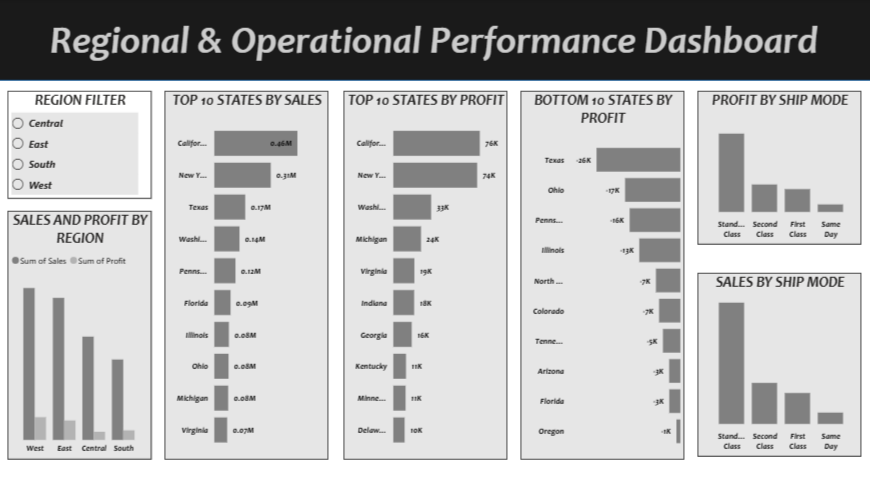

Layout of this report page (visuals, bound fields, positions):
{"tool":"powerbi","page":{"name":"Regional & Operations","canvas":[1280,720],"ordinal":2},"visuals":[{"type":"shape","title":"Business Intelligence Report","box":[0,0,1280.5,120],"z":0},{"type":"listSlicer","title":"REGION FILTER","fields":{"Values":["samplesuperstore.Region"]},"box":[16.1,134.6,210.7,158],"z":1},{"type":"clusteredBarChart","title":"TOP 10 STATES BY SALES","fields":{"Category":["samplesuperstore.State/Province"],"Y":["Sum(samplesuperstore.Sales)"]},"box":[245.9,134.6,240,540],"z":2},{"type":"clusteredBarChart","title":"TOP 10 STATES BY PROFIT","fields":{"Category":["samplesuperstore.State/Province"],"Y":["Sum(samplesuperstore.Profit)"]},"box":[507.8,134.6,240,540],"z":3},{"type":"clusteredColumnChart","title":"SALES BY SHIP MODE","fields":{"Category":["samplesuperstore.Ship Mode"],"Y":["Sum(samplesuperstore.Sales)"]},"box":[1025.9,401,240,269.3],"z":4},{"type":"clusteredColumnChart","title":"PROFIT BY SHIP MODE","fields":{"Category":["samplesuperstore.Ship Mode"],"Y":["Sum(samplesuperstore.Profit)"]},"box":[1025.9,134.6,240,225.4],"z":5},{"type":"clusteredBarChart","title":"BOTTOM 10 STATES BY PROFIT","fields":{"Category":["samplesuperstore.State/Province"],"Y":["Sum(samplesuperstore.Profit)"]},"box":[766.8,134.6,240,540],"z":6},{"type":"clusteredColumnChart","title":"SALES AND PROFIT BY REGION","fields":{"Category":["samplesuperstore.Region"],"Y":["Sum(samplesuperstore.Sales)","Sum(samplesuperstore.Profit)"]},"box":[16.1,310.2,210.7,364.4],"z":7}]}

Visuals, with their boxes in screenshot pixels (x1, y1, x2, y2), scaled from the page's 1280x720 canvas onto the 870x487 screenshot:
"Business Intelligence Report" shape: x1=0 y1=0 x2=869 y2=81
"REGION FILTER" listSlicer: x1=11 y1=91 x2=154 y2=198
"TOP 10 STATES BY SALES" clusteredBarChart: x1=167 y1=91 x2=330 y2=456
"TOP 10 STATES BY PROFIT" clusteredBarChart: x1=345 y1=91 x2=508 y2=456
"SALES BY SHIP MODE" clusteredColumnChart: x1=697 y1=271 x2=860 y2=453
"PROFIT BY SHIP MODE" clusteredColumnChart: x1=697 y1=91 x2=860 y2=244
"BOTTOM 10 STATES BY PROFIT" clusteredBarChart: x1=521 y1=91 x2=684 y2=456
"SALES AND PROFIT BY REGION" clusteredColumnChart: x1=11 y1=210 x2=154 y2=456
